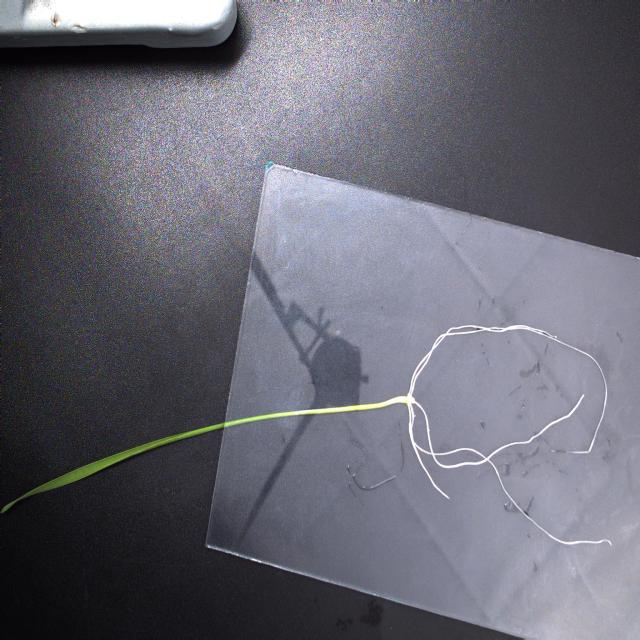leaf: (1, 433, 171, 517)
root: (406, 320, 619, 552)
stem: (169, 396, 408, 448)
